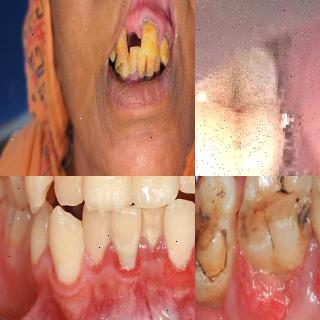Gum Swelling: (52, 237, 195, 299), (78, 236, 195, 290), (226, 260, 292, 320), (124, 15, 173, 43), (121, 73, 143, 85)
calculus: (138, 14, 159, 34), (117, 27, 129, 58), (120, 63, 132, 81), (145, 61, 154, 84), (162, 34, 170, 58), (136, 64, 146, 82), (129, 61, 138, 79)
cavities: (200, 71, 256, 158), (257, 176, 313, 241), (195, 198, 230, 284)
maligned: (44, 206, 86, 288), (110, 198, 144, 272), (166, 195, 195, 275), (48, 176, 86, 206)
plaque: (113, 219, 145, 273), (165, 220, 195, 276), (85, 176, 131, 208), (144, 207, 165, 251), (117, 29, 129, 61), (128, 52, 140, 70), (138, 53, 148, 73), (120, 61, 130, 78), (155, 51, 161, 78), (147, 51, 155, 70), (110, 43, 118, 61), (114, 60, 121, 80), (169, 37, 173, 55)
stains: (141, 23, 158, 57), (160, 44, 170, 60)
